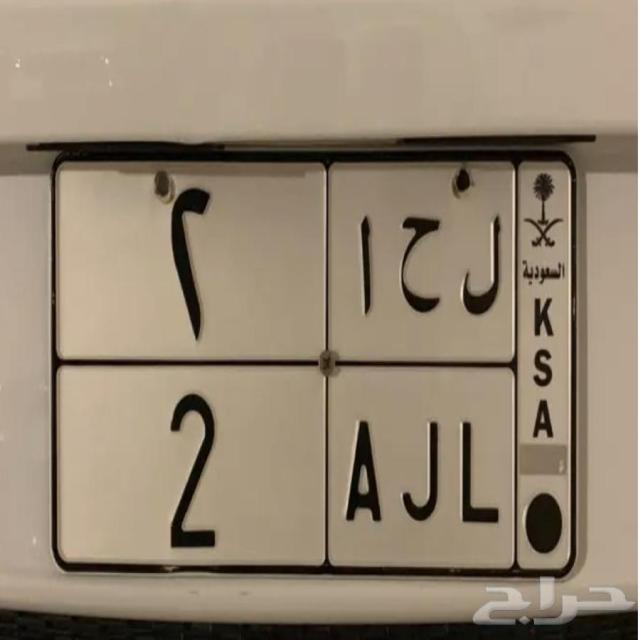license_plate: (48, 357, 519, 580)
